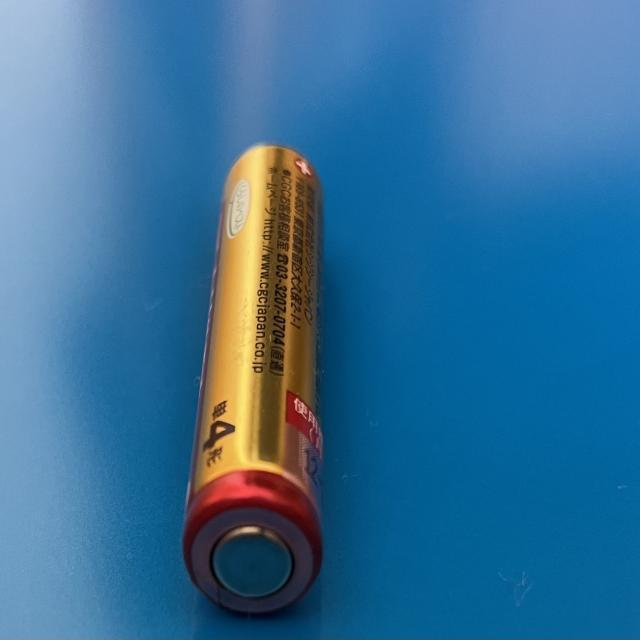AAA: (180, 142, 325, 616)
